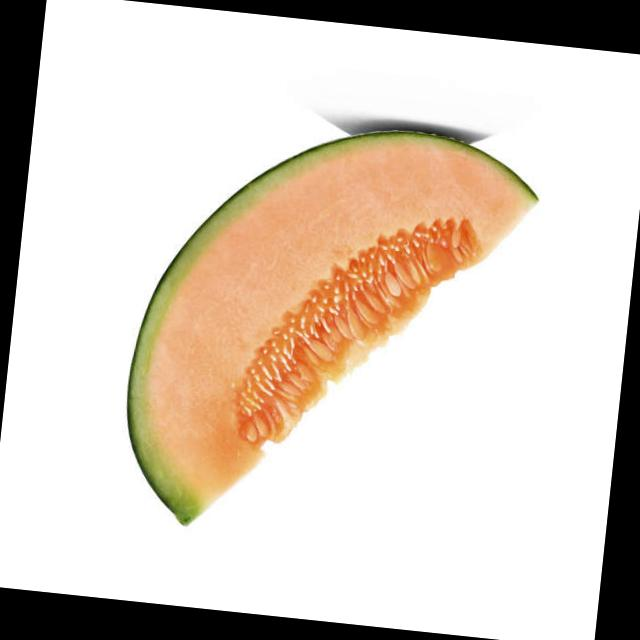Hami Melon: (111, 102, 544, 559)
